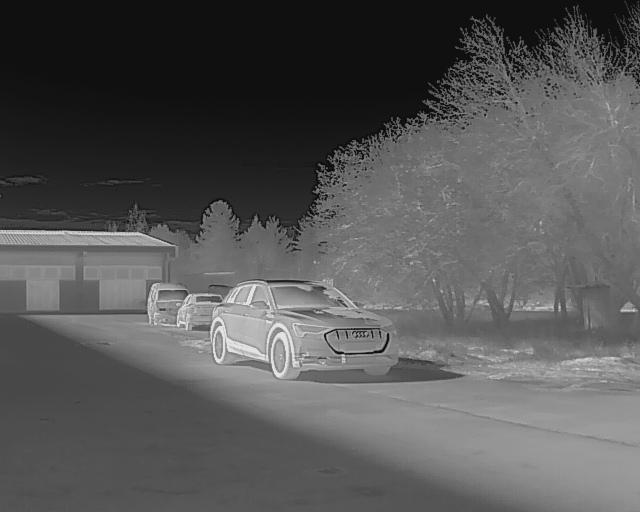drone: (282, 341, 356, 378)
